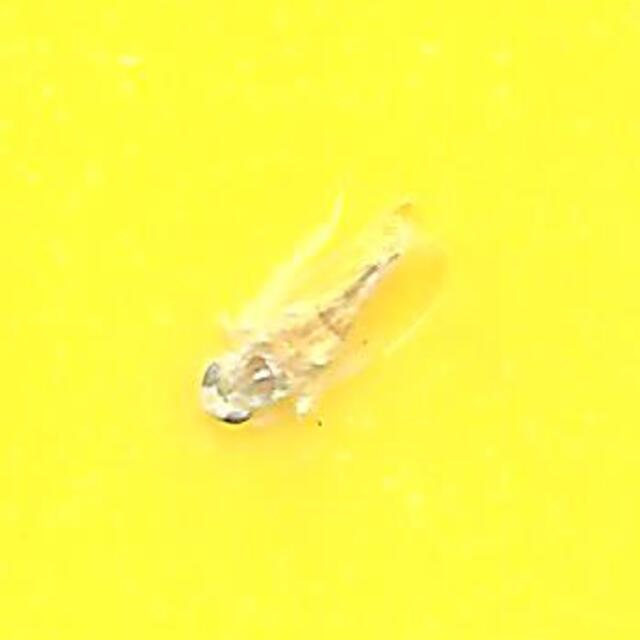Hemiptera: (185, 212, 455, 428)
